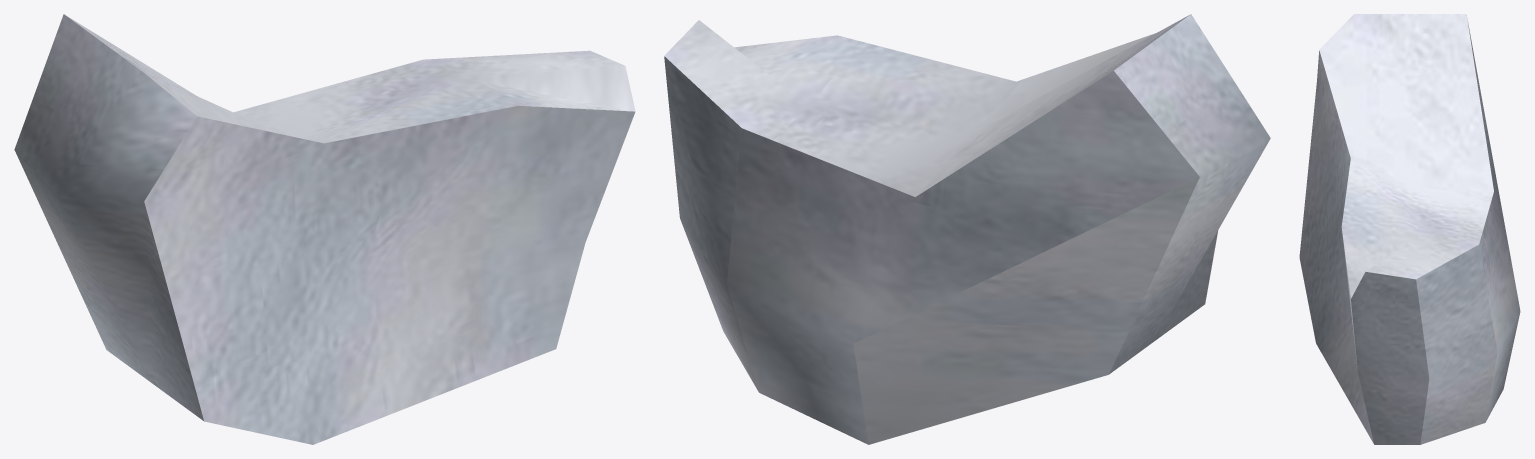
The model's file is snow_ball_7.obj.
The picture shows the model from 3 angles, left to right: view 1: azimuth 30°, elevation 25°; view 2: azimuth 150°, elevation 25°; view 3: azimuth 270°, elevation 25°; orthographic projection. The views are drawn at different scales.
Parts seen in each view (by area): view 1: pCube9; view 2: pCube9; view 3: pCube9.
Part boxes in pixels (x1,y1,x2,y2): pCube9: (14,14,635,444); pCube9: (664,14,1270,444); pCube9: (1299,14,1520,444).
Size of the model in its own units: 4.55 by 3.15 by 2.12.
